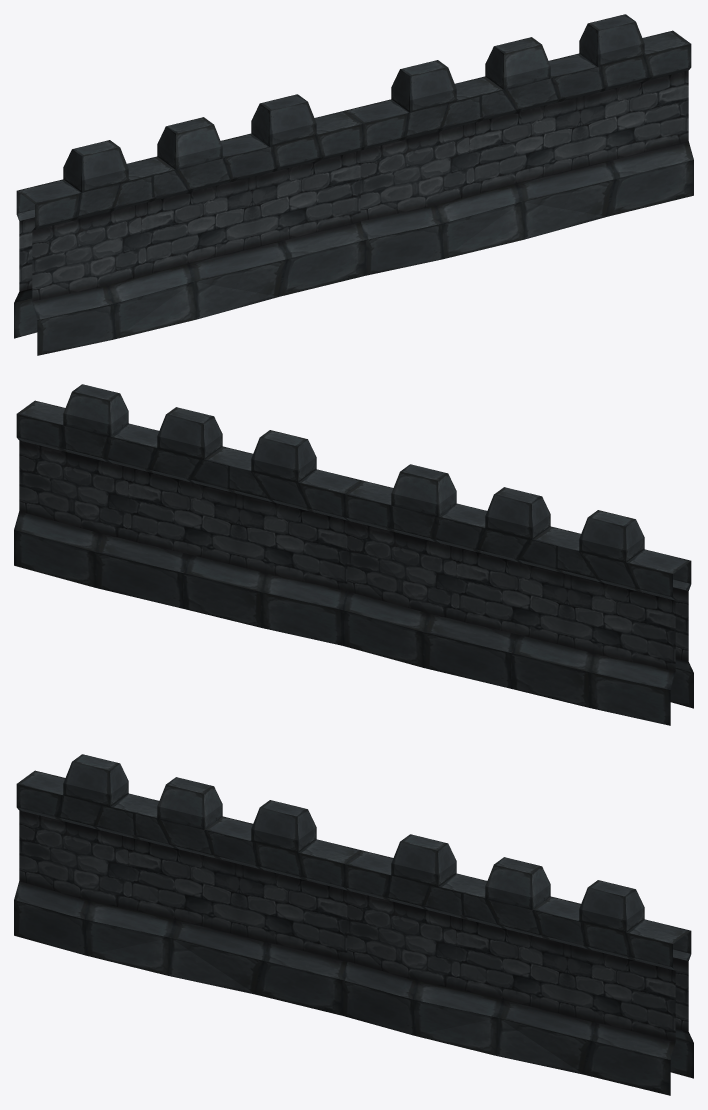
File: cp_wall2.FBX
3 views of the same model, one above another, from view 1: azimuth 30°, elevation 25°; view 2: azimuth 150°, elevation 25°; view 3: azimuth 330°, elevation 25° (orthographic).
Parts seen in each view (by area): view 1: wall2; view 2: wall2; view 3: wall2.
Part boxes in pixels (left/top/right/bottom): wall2: left=14, top=14, right=693, bottom=355; wall2: left=14, top=384, right=693, bottom=725; wall2: left=14, top=754, right=693, bottom=1095.
Bounding box in the file's own units: 146 × 38.66 × 11.
